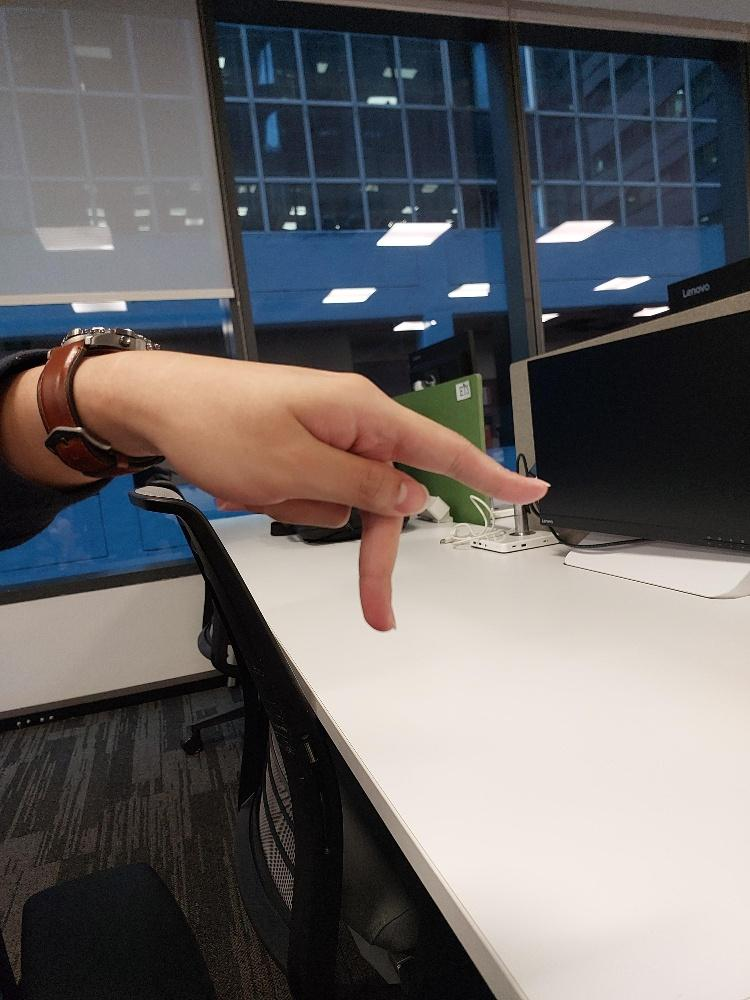p: (237, 360, 548, 632)
